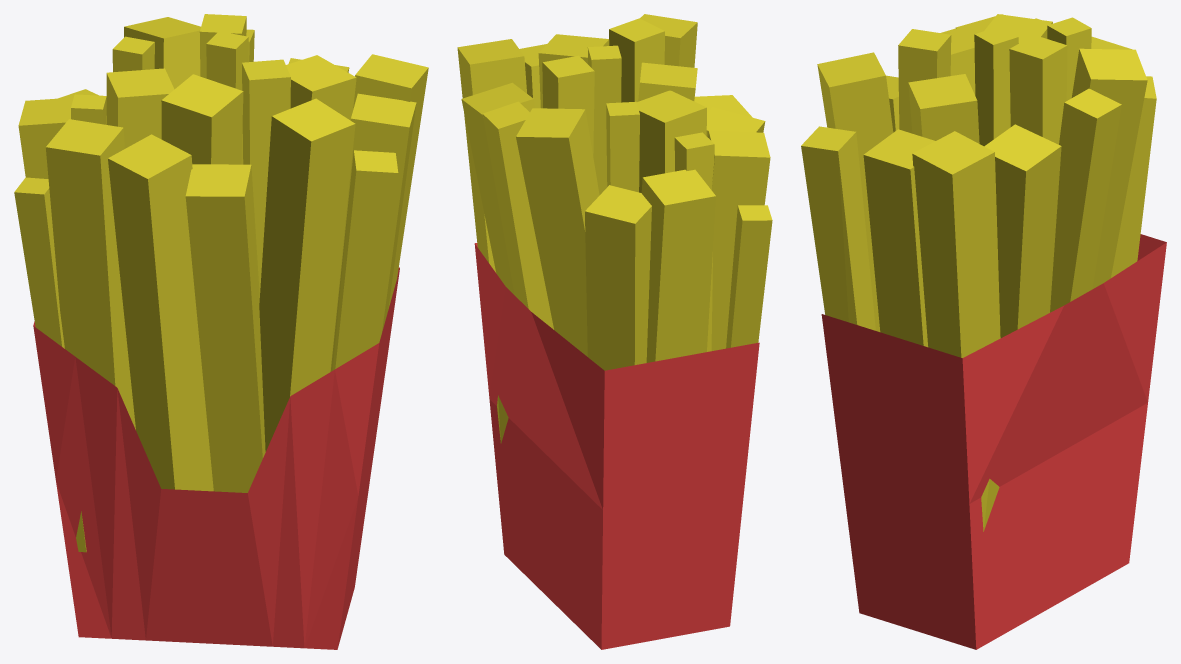
Rendered from french_fries.dae.
The picture shows the model from 3 angles, left to right: view 1: azimuth 30°, elevation 25°; view 2: azimuth 150°, elevation 25°; view 3: azimuth 270°, elevation 25°; orthographic projection. The views are drawn at different scales.
Visible parts, largest first — view 1: Cube.003, Cube.019, Cube.022, Cube.013, Cube.020, Cube.012, Cube.021, Cube.009, Cube.005, Cube.023, Cube.010, Cube.007 (+7 smaller); view 2: Cube.003, Cube.017, Cube.006, Cube.014, Cube.020, Cube.011, Cube.009, Cube.010, Cube.016, Cube.007, Cube.018, Cube.024 (+9 smaller); view 3: Cube.003, Cube.010, Cube.016, Cube.012, Cube.011, Cube.005, Cube.017, Cube.022, Cube.004, Cube.015, Cube.024, Cube.014 (+5 smaller).
Part boxes in pixels (x1,y1,x2,y2): Cube.003: [33, 267, 399, 649]; Cube.019: [108, 134, 213, 491]; Cube.022: [259, 98, 355, 451]; Cube.013: [185, 164, 265, 492]; Cube.020: [45, 119, 135, 429]; Cube.012: [330, 150, 398, 371]; Cube.021: [161, 74, 243, 164]; Cube.009: [14, 177, 86, 552]; Cube.005: [330, 93, 416, 371]; Cube.023: [242, 59, 290, 296]; Cube.010: [353, 54, 428, 309]; Cube.007: [106, 68, 174, 148]; Cube.003: [474, 243, 759, 649]; Cube.017: [516, 108, 599, 356]; Cube.006: [641, 169, 715, 362]; Cube.014: [585, 185, 651, 370]; Cube.020: [708, 130, 770, 350]; Cube.011: [482, 101, 553, 329]; Cube.009: [726, 205, 772, 348]; Cube.010: [457, 39, 526, 443]; Cube.016: [461, 82, 535, 294]; Cube.007: [636, 90, 706, 192]; Cube.018: [606, 101, 639, 192]; Cube.024: [587, 45, 621, 194]; Cube.003: [821, 234, 1166, 649]; Cube.010: [912, 131, 1000, 531]; Cube.016: [984, 124, 1061, 337]; Cube.012: [801, 126, 875, 330]; Cube.011: [1050, 88, 1121, 312]; Cube.005: [863, 129, 935, 347]; Cube.017: [1071, 48, 1147, 289]; Cube.022: [817, 52, 893, 331]; Cube.004: [1009, 35, 1067, 144]; Cube.015: [908, 74, 979, 143]; Cube.024: [974, 26, 1018, 146]; Cube.014: [1111, 76, 1156, 277].
Bounding box in the file's own units: 1.4 × 1.21 × 2.03.
